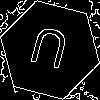U: (25, 25, 72, 79)
